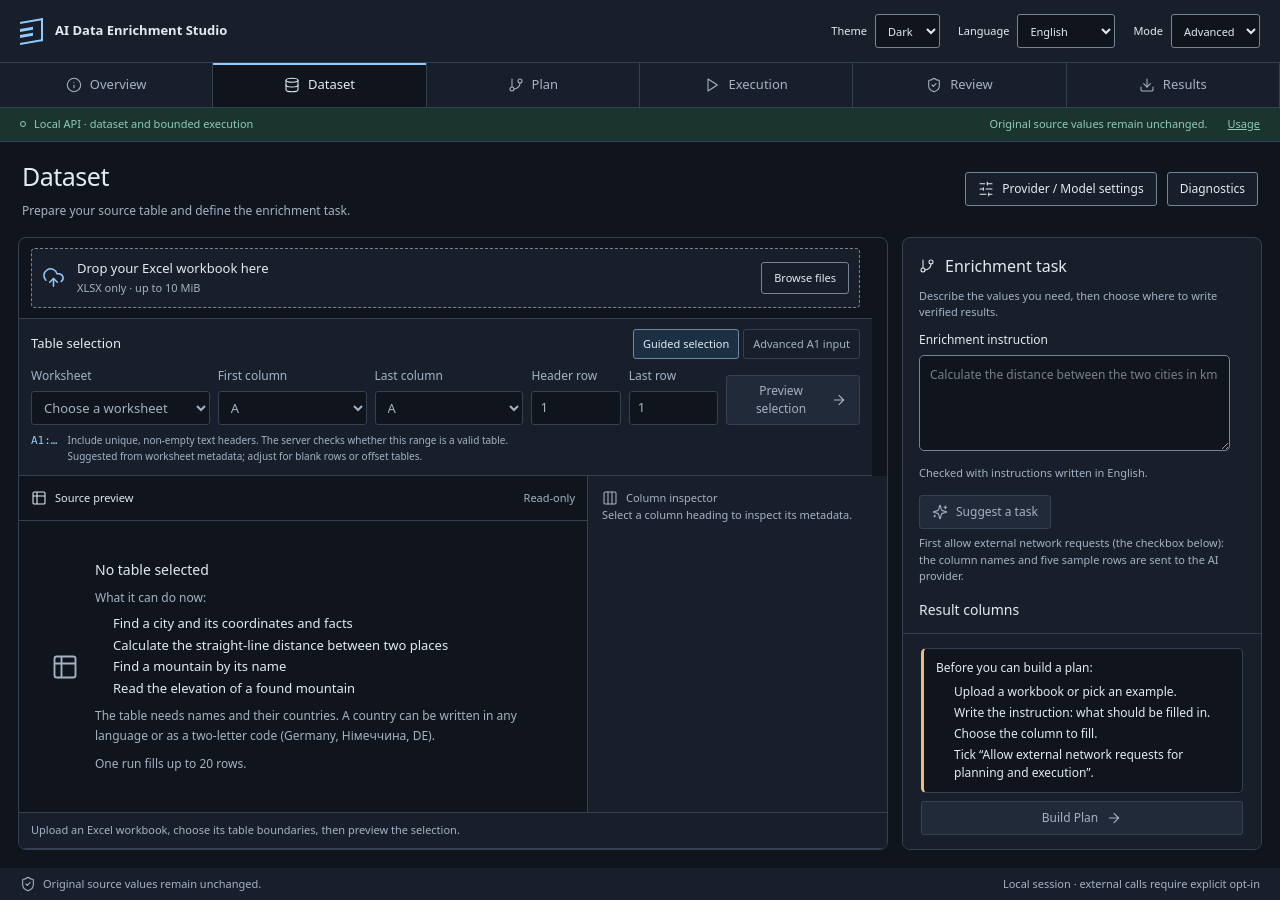
Scenario: reads the limits again after the provider settings are saved or cleared
Click the button "Provider / Model settings" at (1061, 189), box x1=965 y1=172 x2=1157 y2=206
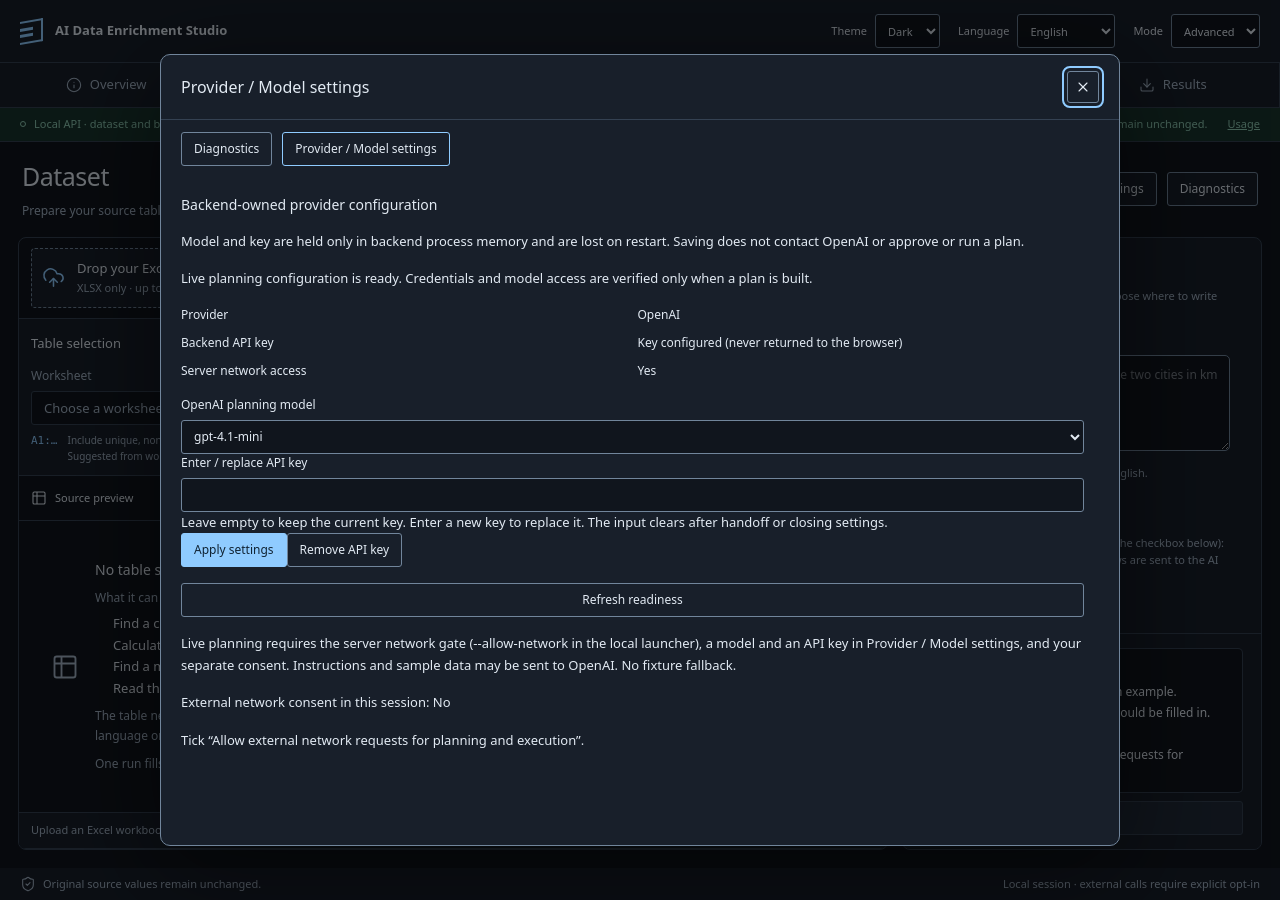
Click the button "Apply settings" at (234, 550), box x1=181 y1=533 x2=287 y2=567
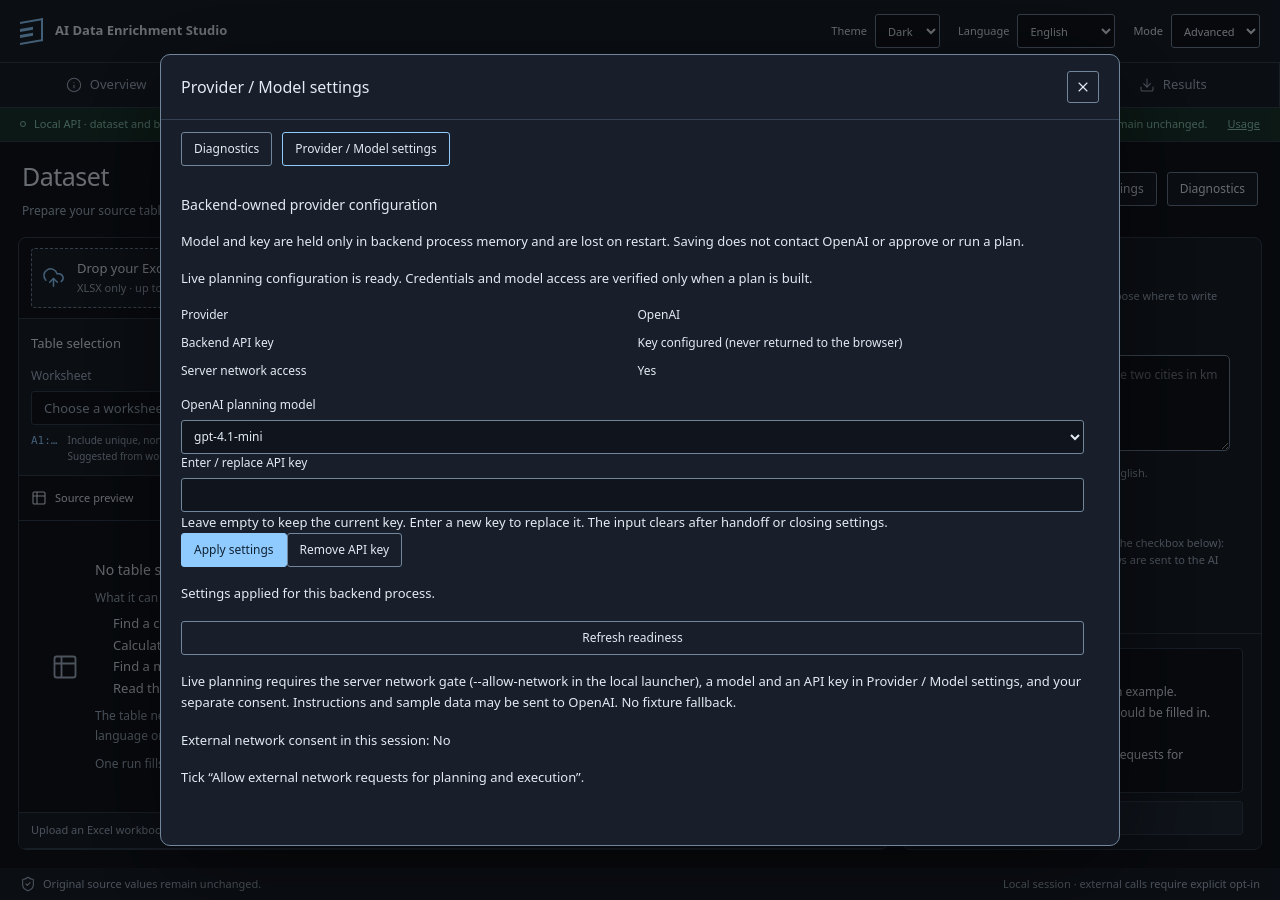
Check: the text "Settings applied for this backend process." is shown, box x1=181 y1=584 x2=435 y2=602
Click the button "Remove API key" at (344, 550), box x1=287 y1=533 x2=402 y2=567
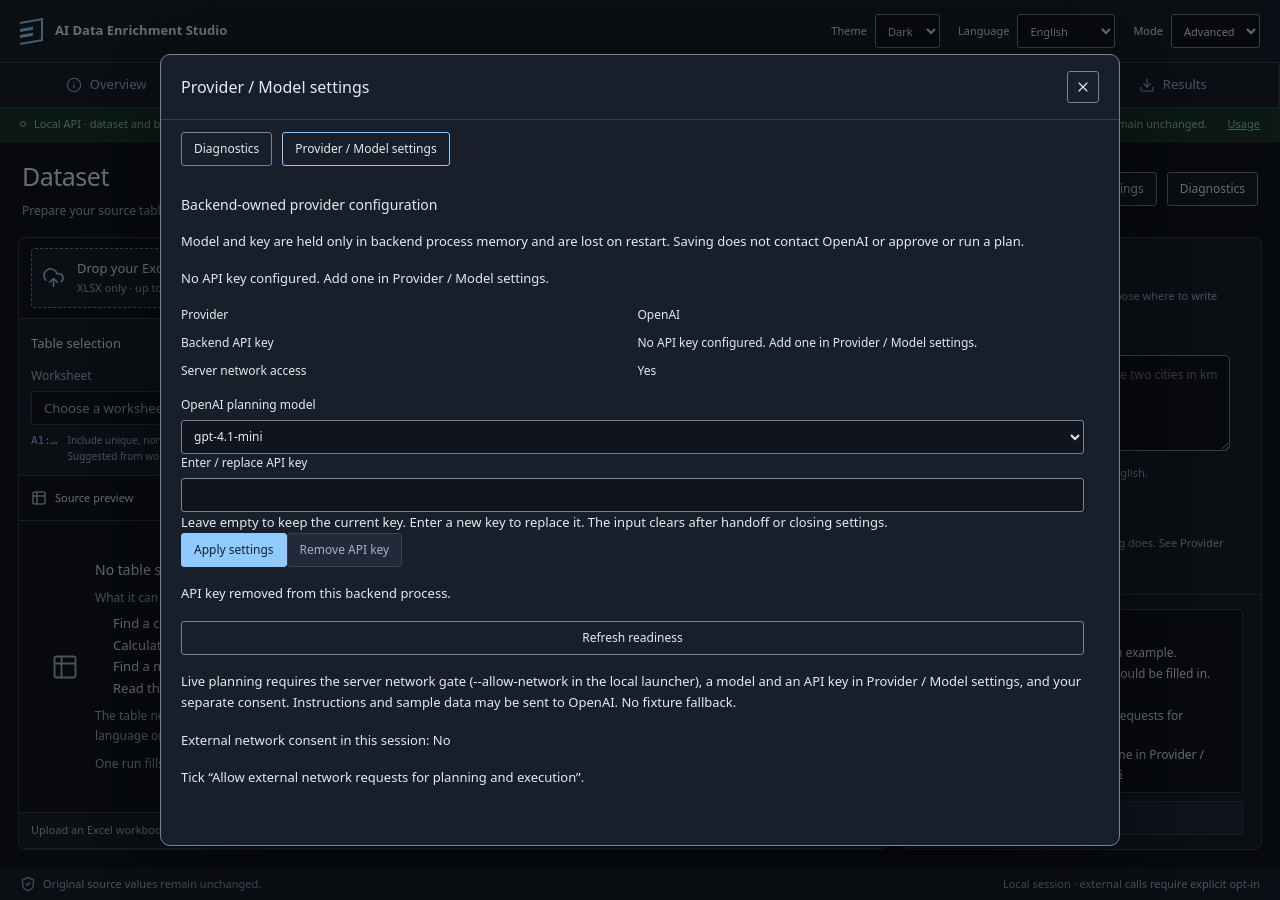
Check: the text "API key removed from this backend process." is shown, box x1=181 y1=584 x2=451 y2=602
